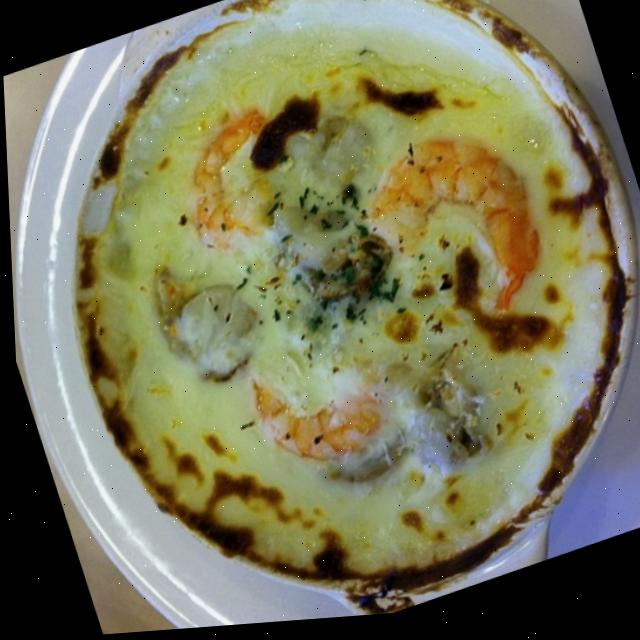米饭主食: (34, 0, 640, 633)
